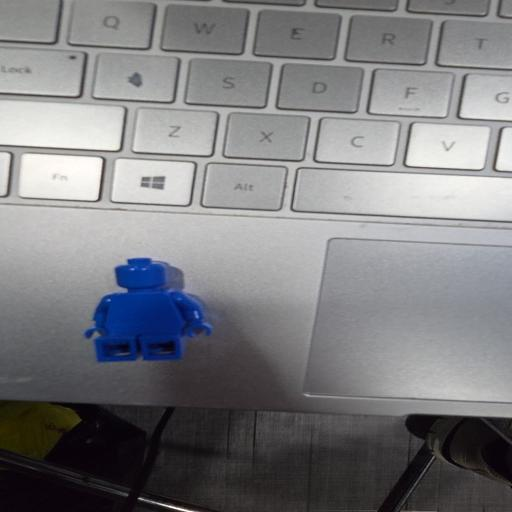Blue: (84, 258, 211, 361)
